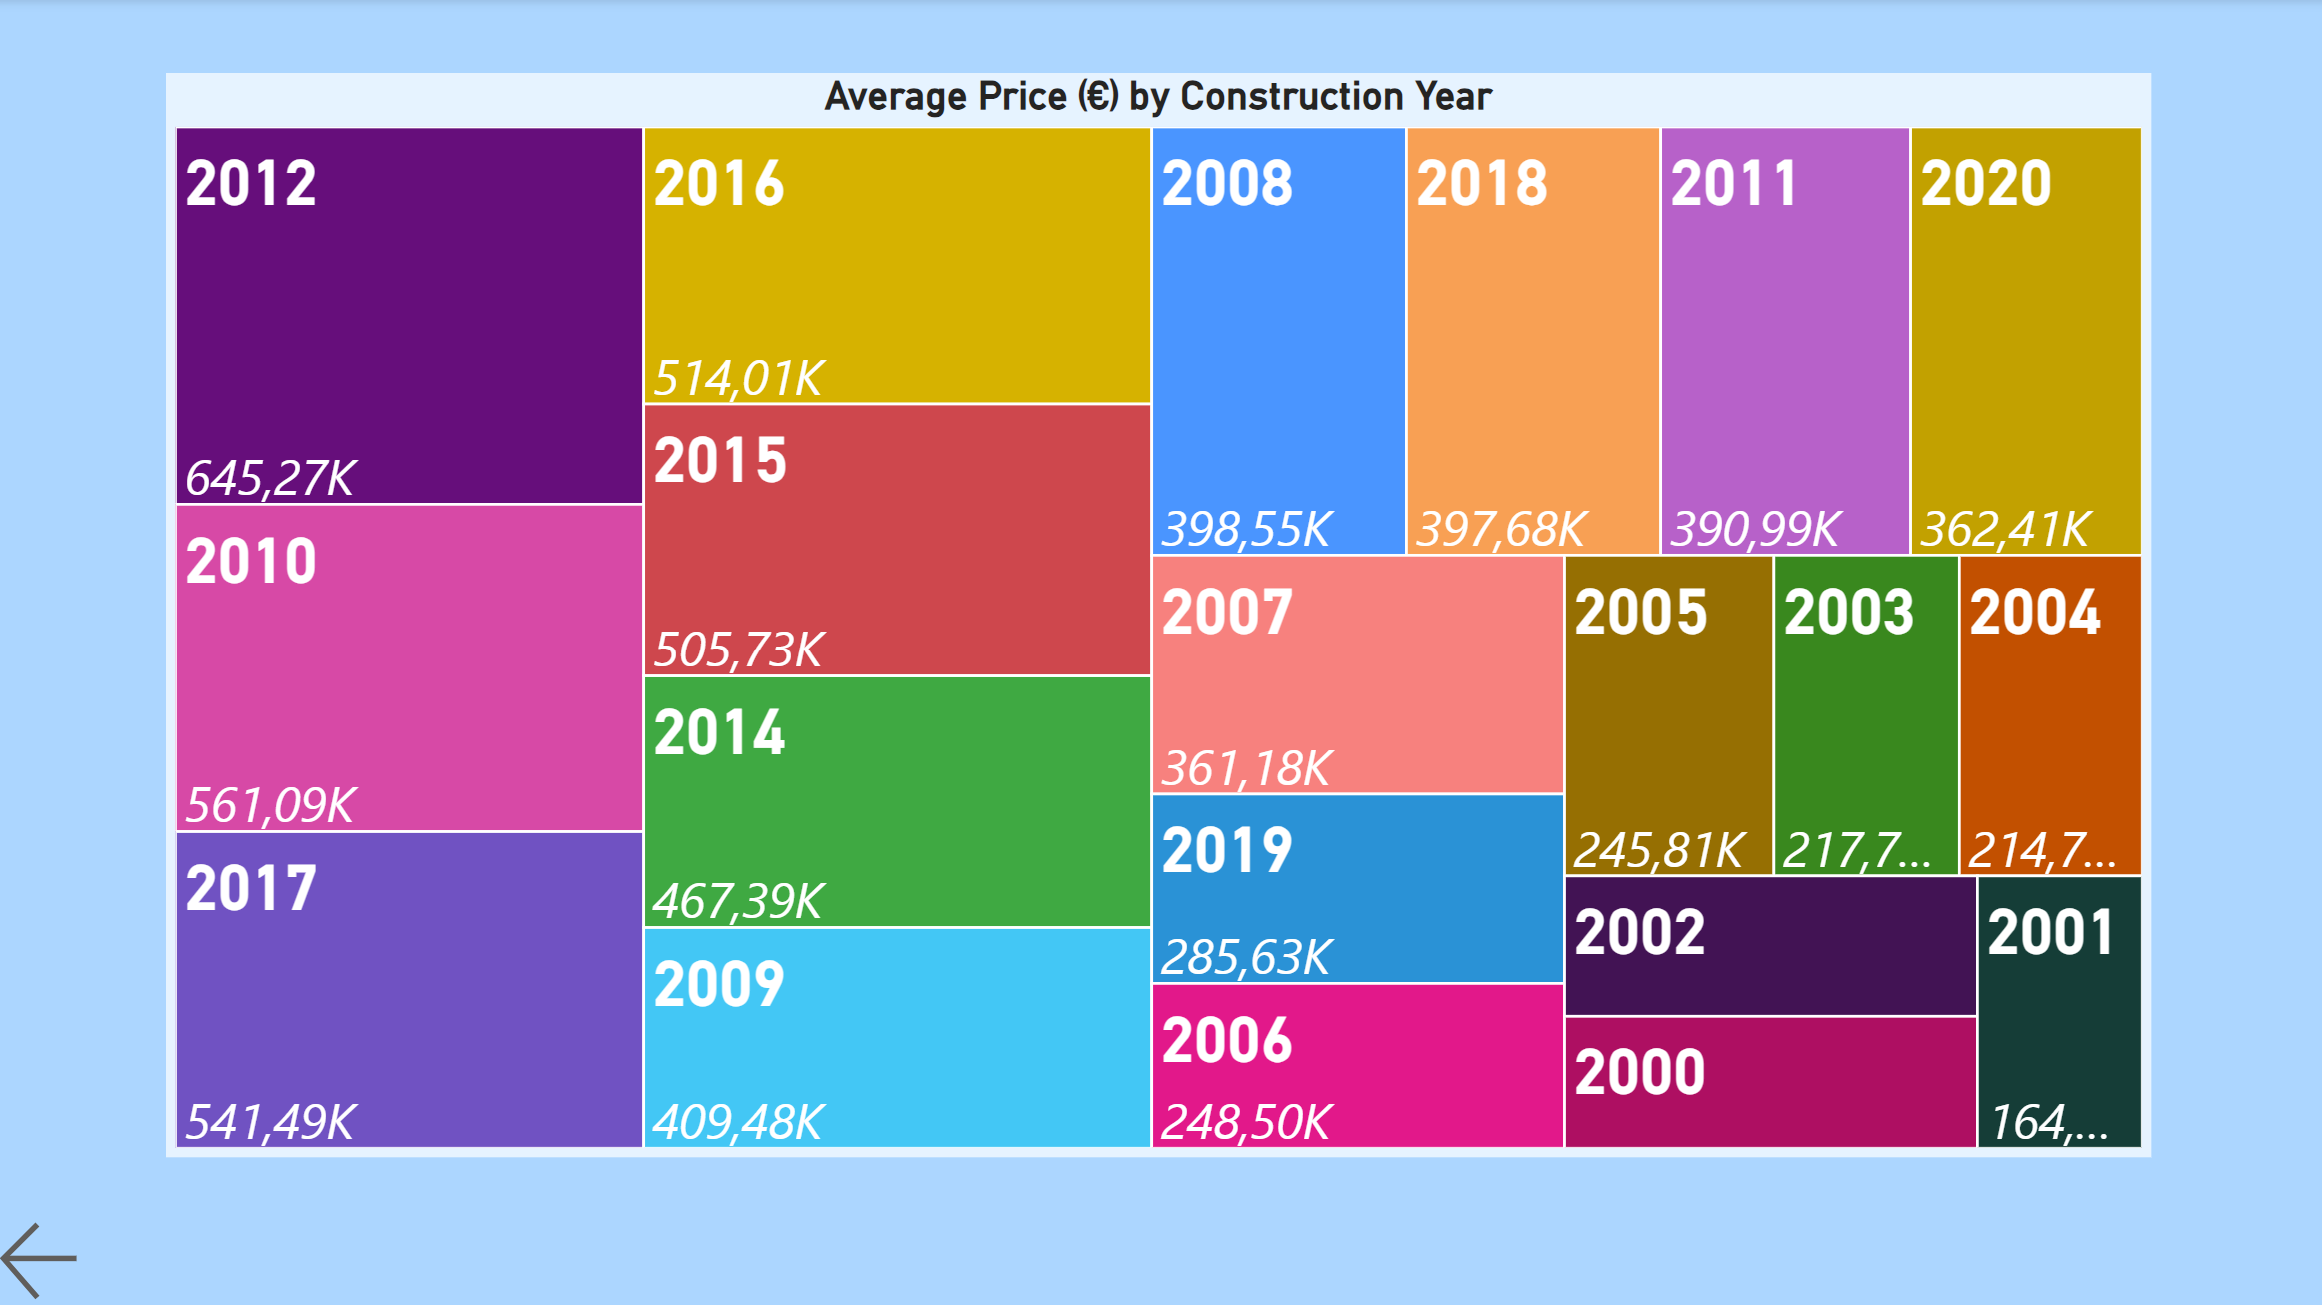

What the dashboard file says about the page in this screenshot:
{"tool":"powerbi","page":{"name":"Page 5","canvas":[1280,720],"ordinal":5},"visuals":[{"type":"treemap","title":"Average Price (€) by Construction Year","fields":{"Group":["boat_data_clean.Year Built"],"Values":["Avg(boat_data_clean.Precio_EUR)"]},"box":[96,41.1,1088.6,595],"z":0},{"type":"actionButton","box":[0,666.2,68.5,53.8],"z":1000}]}

Visuals, with their boxes in screenshot pixels (x1, y1, x2, y2), scaled from the page's 1280x720 canvas onto the 2322x1305 screenshot:
"Average Price (€) by Construction Year" treemap: [x1=174, y1=74, x2=2149, y2=1153]
actionButton: [x1=0, y1=1207, x2=124, y2=1304]
